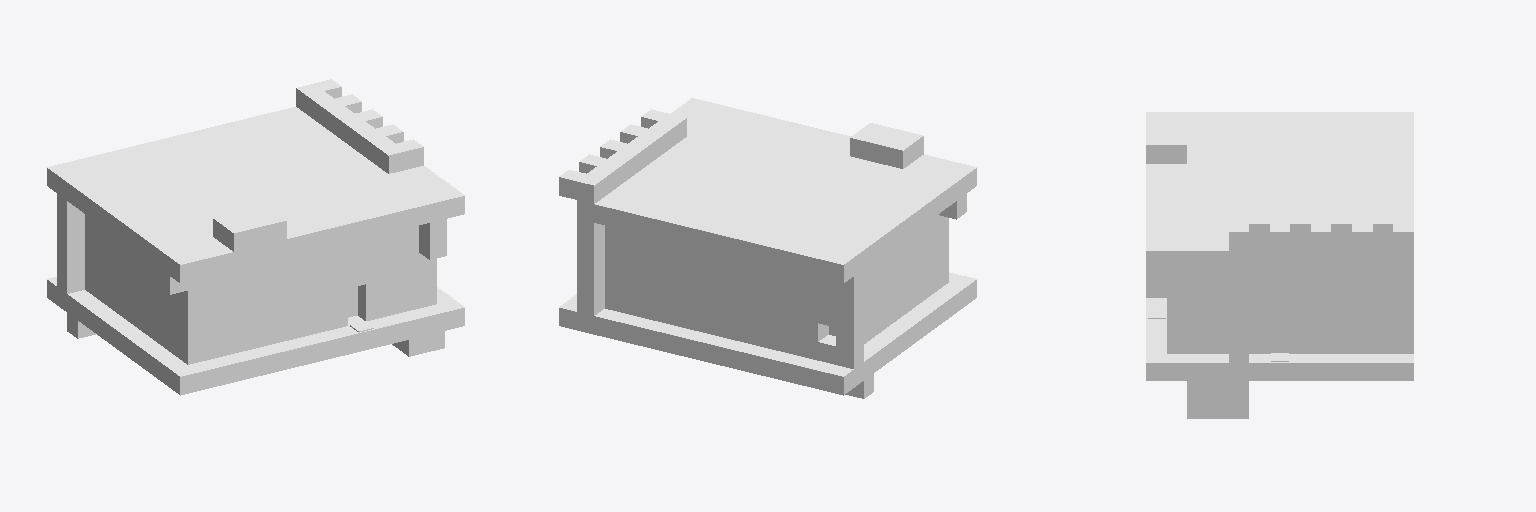
The model's file is salle_rouge_bleu_tri.obj.
The picture shows the model from 3 angles: view 1: azimuth 30°, elevation 25°; view 2: azimuth 150°, elevation 25°; view 3: azimuth 270°, elevation 25°; orthographic projection.
Parts seen in each view (by area): view 1: __RTX___Test_Map_2_0__210_0_-222_to_225_22_-210; view 2: __RTX___Test_Map_2_0__210_0_-222_to_225_22_-210; view 3: __RTX___Test_Map_2_0__210_0_-222_to_225_22_-210.
Part boxes in pixels (x1,y1,x2,y2): __RTX___Test_Map_2_0__210_0_-222_to_225_22_-210: (47,79,464,395); __RTX___Test_Map_2_0__210_0_-222_to_225_22_-210: (559,98,976,398); __RTX___Test_Map_2_0__210_0_-222_to_225_22_-210: (1146,112,1413,418).
Size of the model in its own units: 24 by 15 by 19.5.